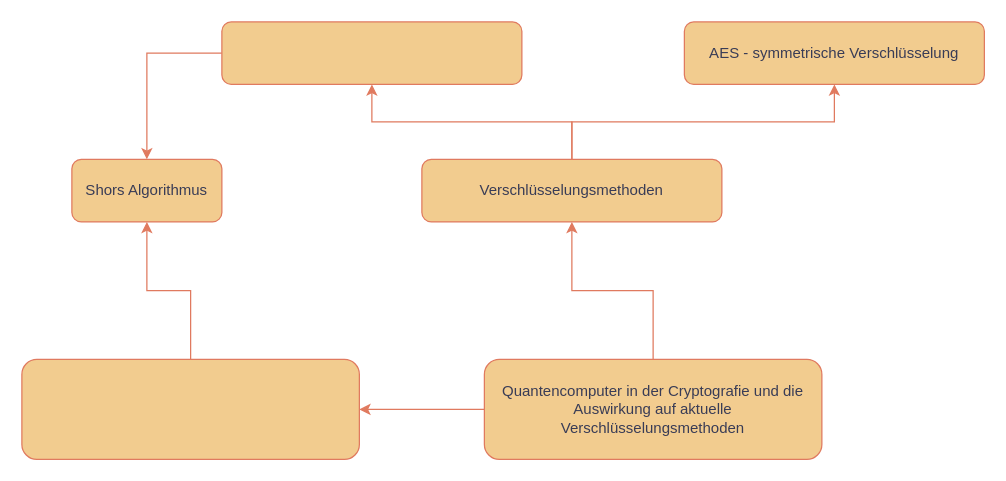
This 1006x481 diagram has some shape labels left out. The centre of each missing label's shape, as x and y in pixels:
"Quantencomputer erklären" goes at (190,408).
"RSA - asymmetrische Verschlüsselung" goes at (371,52).
